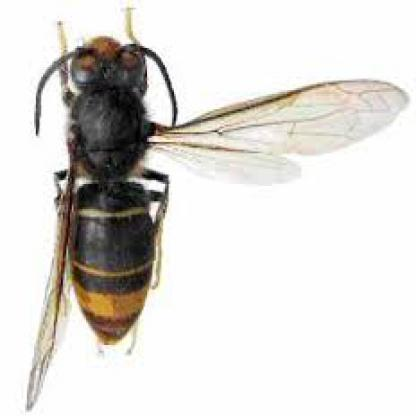asian: (18, 21, 409, 403)
